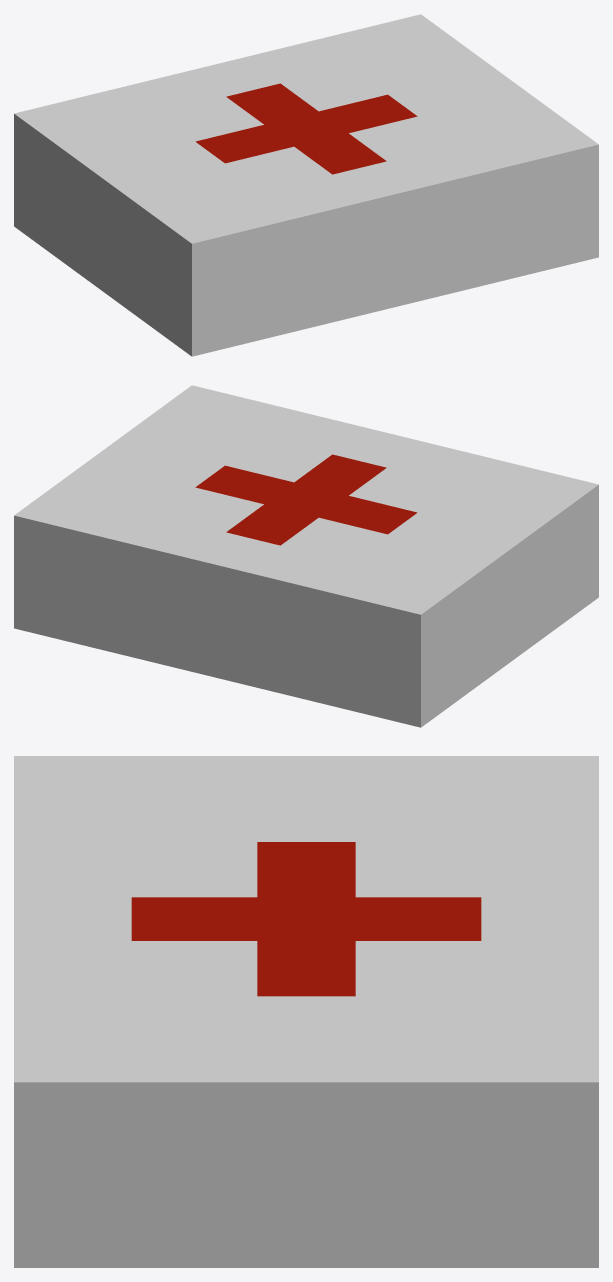
File: First_Aid_Kid.fbx
The picture shows the model from 3 angles, top to bottom: view 1: azimuth 30°, elevation 25°; view 2: azimuth 150°, elevation 25°; view 3: azimuth 270°, elevation 25°; orthographic projection. The views are drawn at different scales.
Visible parts, largest first — view 1: First_Aid_Kid; view 2: First_Aid_Kid; view 3: First_Aid_Kid.
Part boxes in pixels (x1,y1,x2,y2): First_Aid_Kid: (14, 14, 598, 356); First_Aid_Kid: (14, 385, 598, 727); First_Aid_Kid: (14, 756, 598, 1267).
Size of the model in its own units: 15.28 by 4.05 by 11.57.
